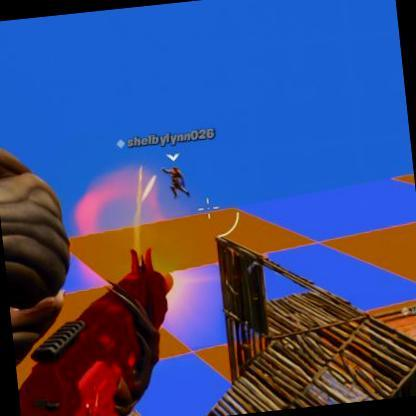person: (166, 156, 193, 206)
